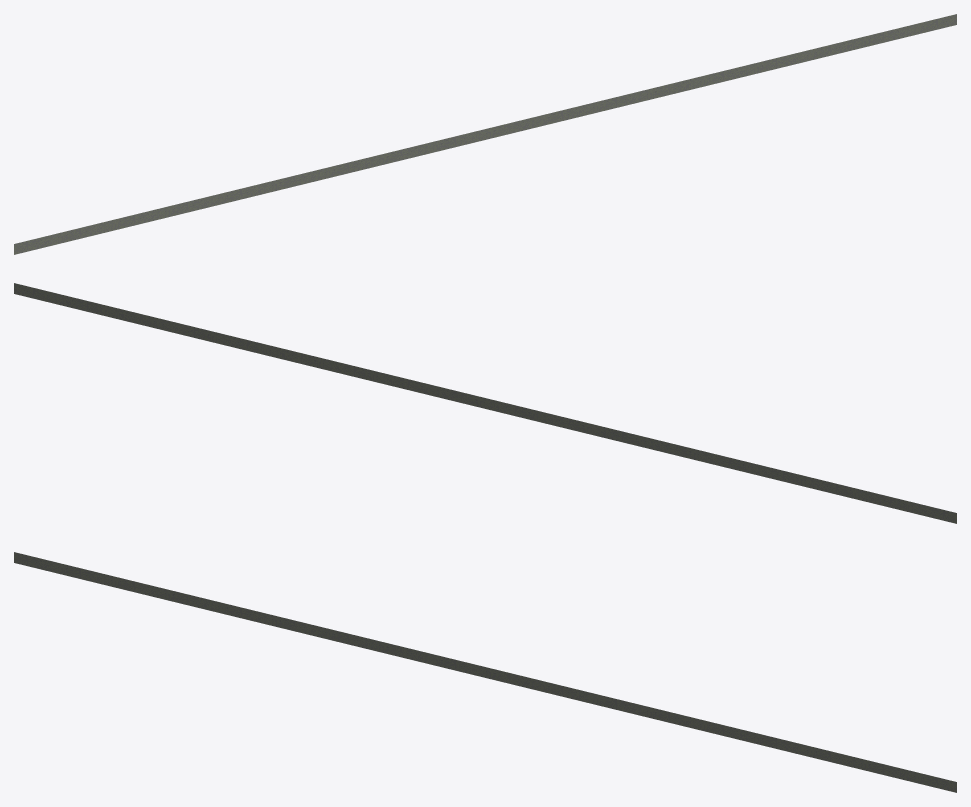
The model's file is kd_stage_135ded_4_21_exterior_piece_4.glb.
The picture shows the model from 3 angles, top to bottom: view 1: azimuth 30°, elevation 25°; view 2: azimuth 150°, elevation 25°; view 3: azimuth 330°, elevation 25°; orthographic projection.
Parts seen in each view (by area): view 1: kd_stage_135ded_4_21_exterior_piece_4; view 2: kd_stage_135ded_4_21_exterior_piece_4; view 3: kd_stage_135ded_4_21_exterior_piece_4.
Boxes of the visible parts, x1,y1,x2,y2 form: kd_stage_135ded_4_21_exterior_piece_4: (14, 14, 956, 254); kd_stage_135ded_4_21_exterior_piece_4: (14, 283, 956, 523); kd_stage_135ded_4_21_exterior_piece_4: (14, 552, 956, 792).
Size of the model in its own units: 4.52 by 0.05 by 0.
1 material, 1 textured.
